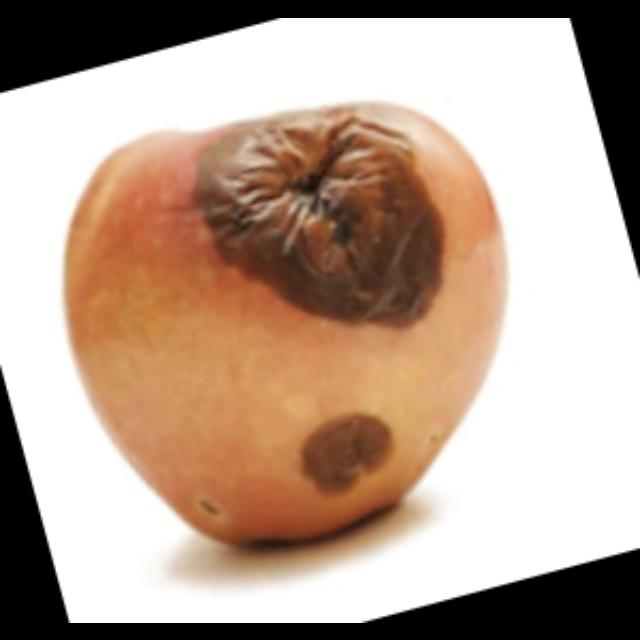Apel Tidak Segar: (27, 66, 617, 616)
